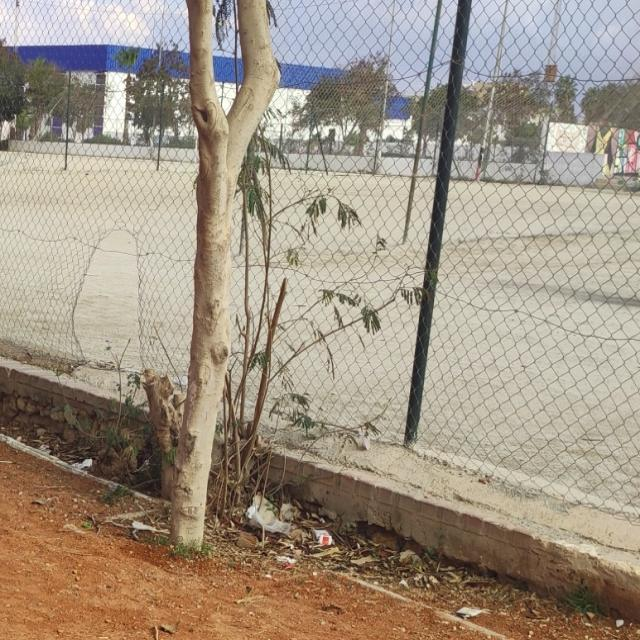fence line: (67, 216, 151, 383)
